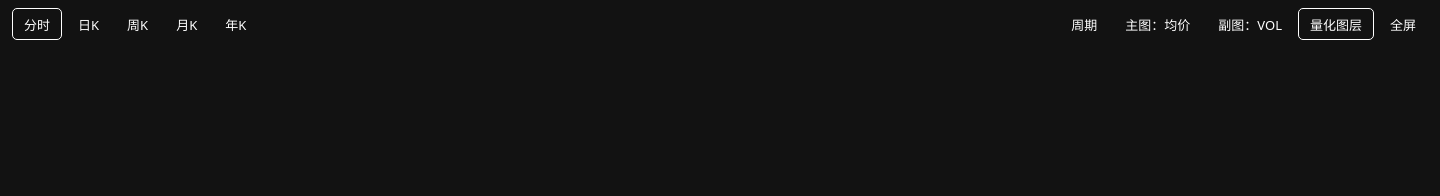
Scenario: separates intraday main, secondary and quant layers
This screenshot has width=1440, height=196.
Expected: the button "副图：VOL" is shown, left=1206, top=8, right=1294, bottom=40
Click the button "主图：均价".
click(1158, 24)  # box left=1113, top=8, right=1202, bottom=40
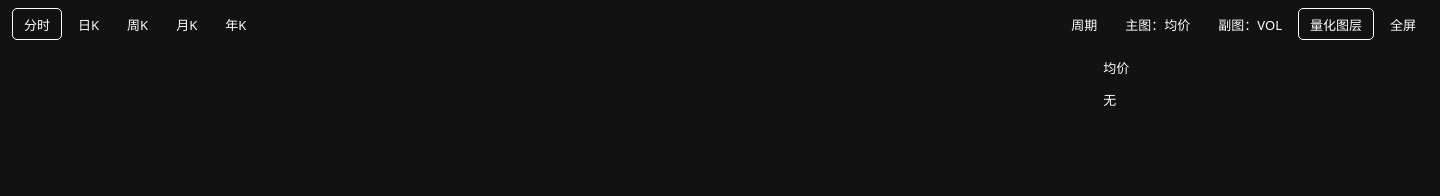
Expected: the menu item "均价" is shown, left=1091, top=51, right=1197, bottom=83
Expected: the menu item "无" is shown
Click the menu item "无".
click(1144, 99)  # box left=1091, top=83, right=1197, bottom=115
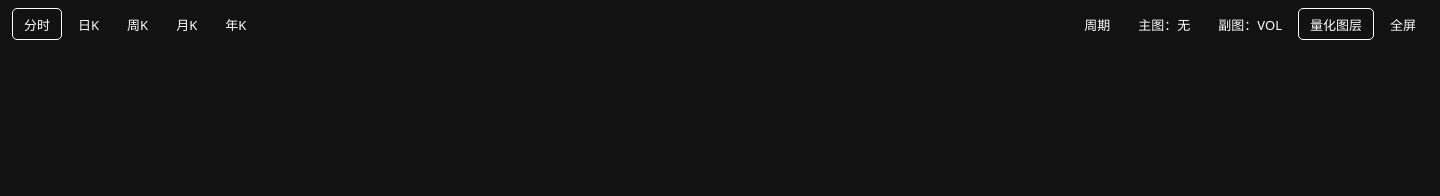
Expected: the button "主图：无" is shown, left=1126, top=8, right=1202, bottom=40
Click the button "副图：VOL".
click(1250, 24)  # box left=1206, top=8, right=1294, bottom=40
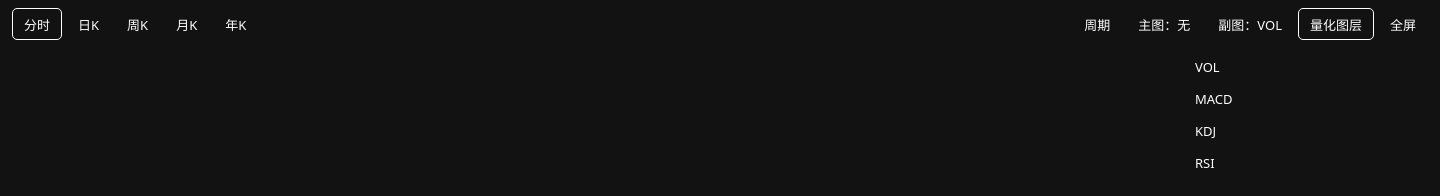
Expected: the menu item "VOL" is shown, left=1183, top=51, right=1289, bottom=83
Expected: the menu item "MACD" is shown
Expected: the menu item "KDJ" is shown, left=1183, top=115, right=1289, bottom=147
Click the menu item "MACD".
click(1236, 99)  # box left=1183, top=83, right=1289, bottom=115
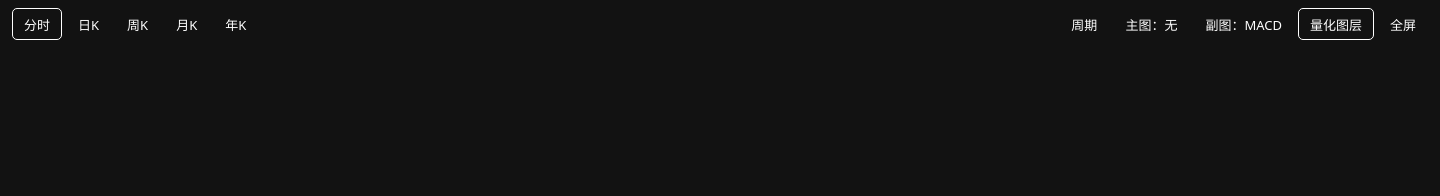
Expected: the button "副图：MACD" is shown, left=1193, top=8, right=1294, bottom=40
Click the button "量化图层".
click(1336, 24)  # box left=1298, top=8, right=1374, bottom=40
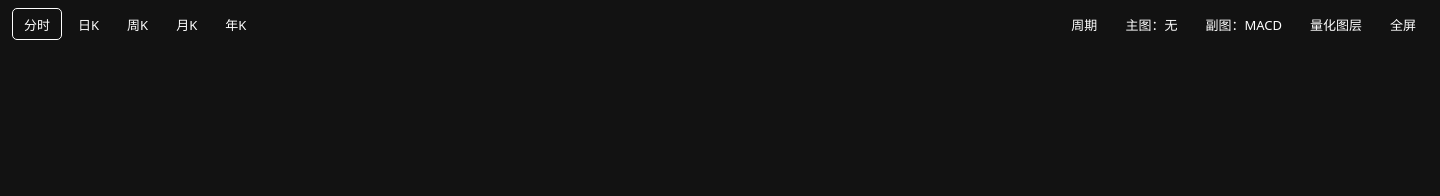
Click the button with aria-label "进入图表全屏".
click(1403, 24)  # box left=1378, top=8, right=1428, bottom=40
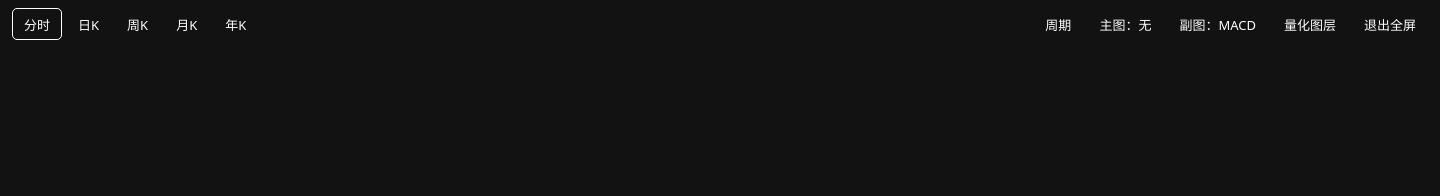
Expected: the button with aria-label "退出图表全屏" is shown, left=1352, top=8, right=1428, bottom=40
